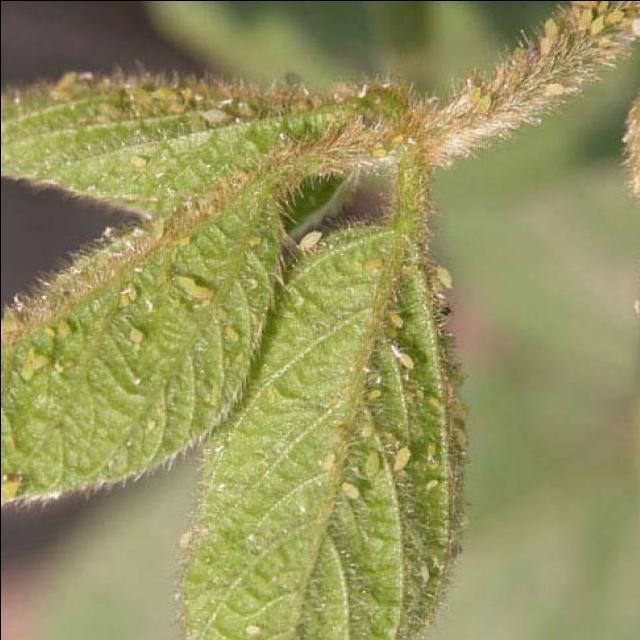aphid: (95, 79, 272, 133), (171, 268, 221, 306), (384, 341, 430, 382), (36, 310, 80, 342), (20, 340, 54, 378), (396, 386, 442, 414), (284, 223, 328, 252), (166, 232, 200, 261), (357, 383, 389, 407), (431, 262, 455, 294), (220, 322, 249, 348), (123, 325, 149, 353), (416, 472, 446, 496), (388, 444, 412, 474), (363, 446, 382, 478), (380, 306, 404, 331), (338, 481, 361, 507), (240, 233, 266, 256), (353, 419, 378, 441), (112, 284, 138, 304), (357, 259, 385, 277), (420, 436, 436, 464)
